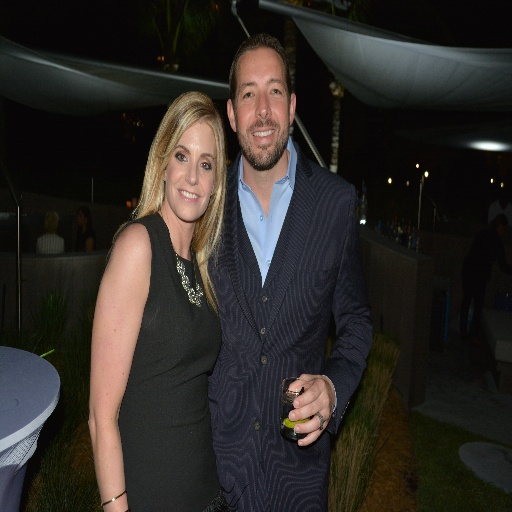hand: (285, 378, 338, 441)
